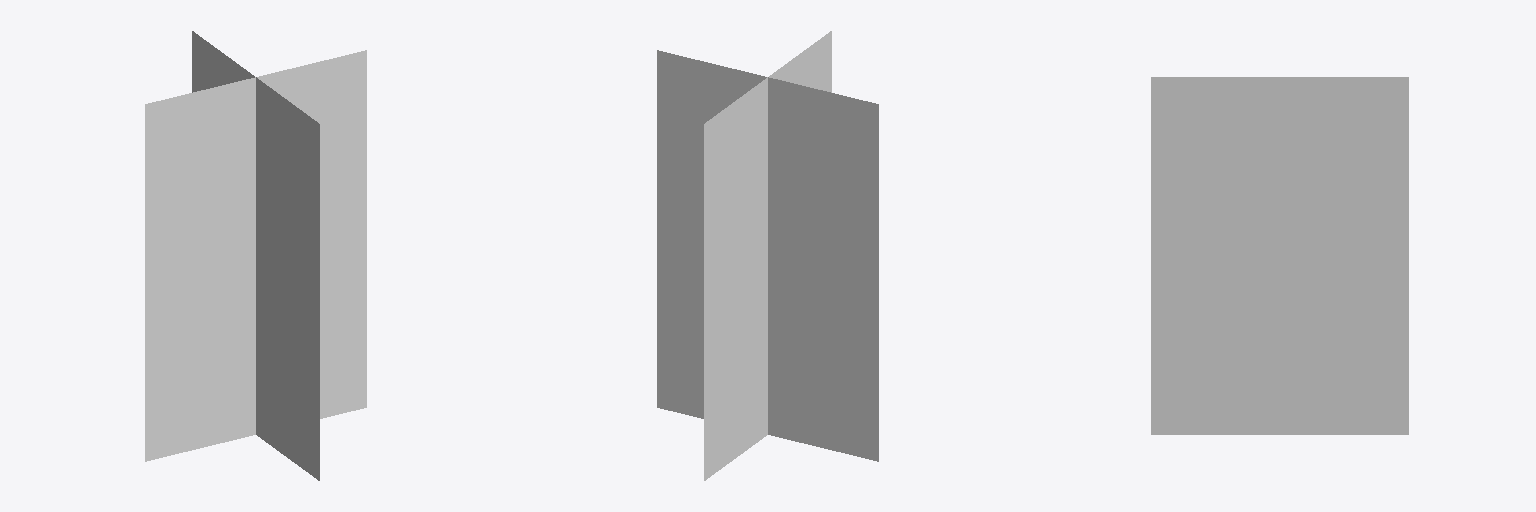
File: Date_Palm_Fan_0.obj
3 renders of one model, left to right at view 1: azimuth 30°, elevation 25°; view 2: azimuth 150°, elevation 25°; view 3: azimuth 270°, elevation 25°, orthographic.
Parts seen in each view (by area): view 1: CreateFan; view 2: CreateFan; view 3: CreateFan.
Boxes of the visible parts, box(x1,y1,x2,y2) form: CreateFan: box(145, 31, 366, 480); CreateFan: box(657, 31, 878, 480); CreateFan: box(1151, 77, 1408, 434).
Size of the model in its own units: 14.68 by 22.5 by 14.68.